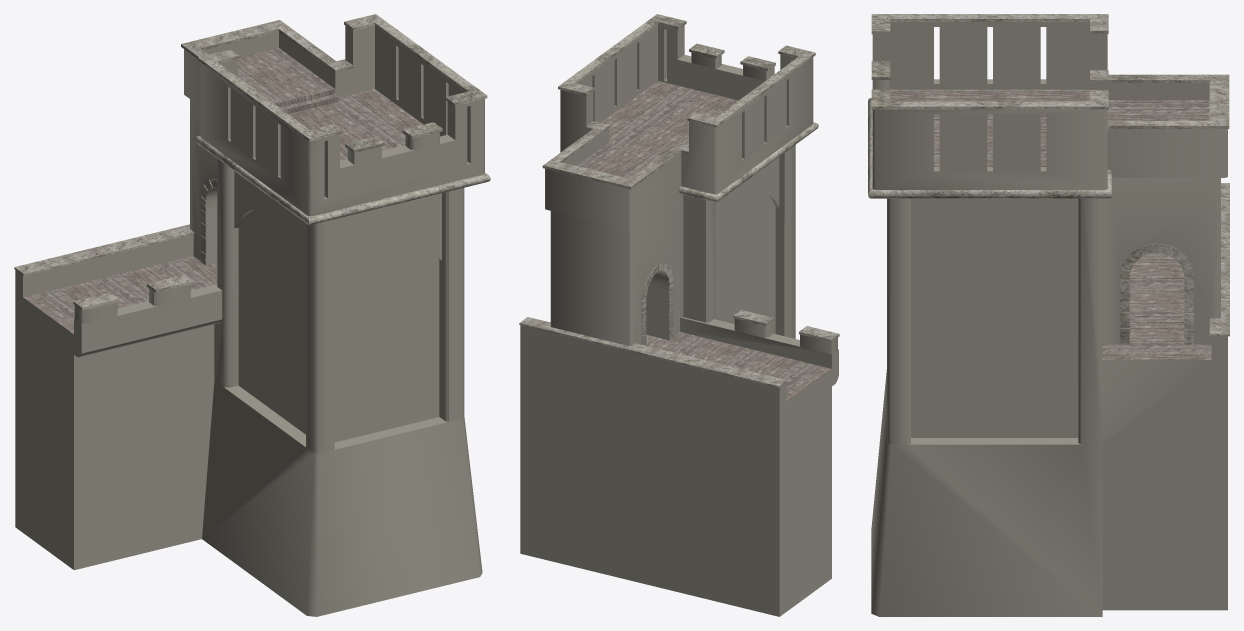
Rendered from Wall_Tower_2.fbx.
3 renders of one model, left to right at view 1: azimuth 30°, elevation 25°; view 2: azimuth 150°, elevation 25°; view 3: azimuth 270°, elevation 25°, orthographic. The views are drawn at different scales.
Parts seen in each view (by area): view 1: Model; view 2: Model; view 3: Model.
Part boxes in pixels (box(x1,y1,x2,y2)): Model: box(14, 14, 490, 616); Model: box(519, 14, 839, 616); Model: box(868, 14, 1229, 616).
Bounding box in the file's own units: 25.23 × 37.73 × 24.2.
